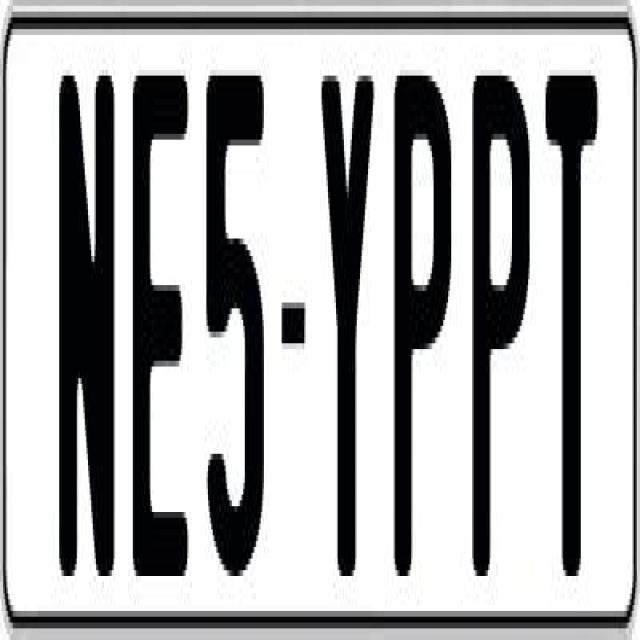5: (202, 58, 260, 576)
E: (132, 58, 194, 570)
N: (56, 75, 112, 588)
P: (388, 64, 454, 570), (468, 70, 530, 594)
T: (546, 58, 606, 570)
Y: (322, 64, 379, 594)
